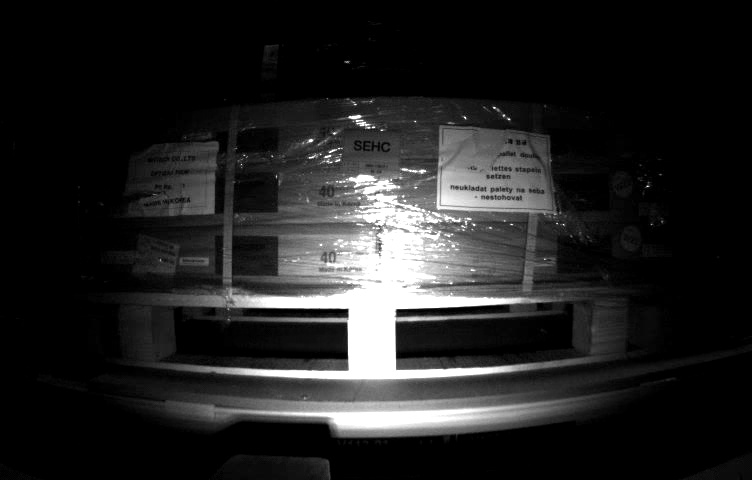True Barcode: (133, 234, 174, 280)
